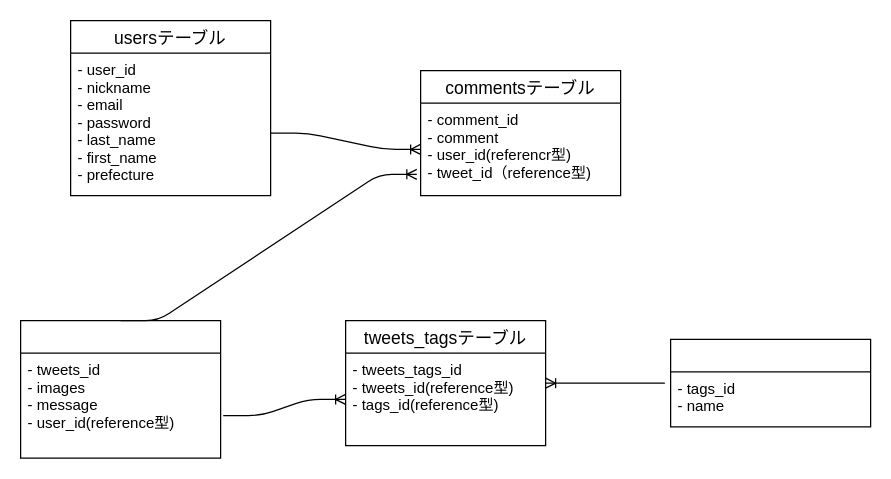
Some shapes in this 891 by 479 pixel diagram are drawn without their labels. The shapes that lost their labels are listed below. From the top down, each one's box as (x1, y1, x2, y2) in pixels, then its label:
(19, 319, 221, 458): tweetsテーブル
(669, 338, 871, 427): tagsテーブル
